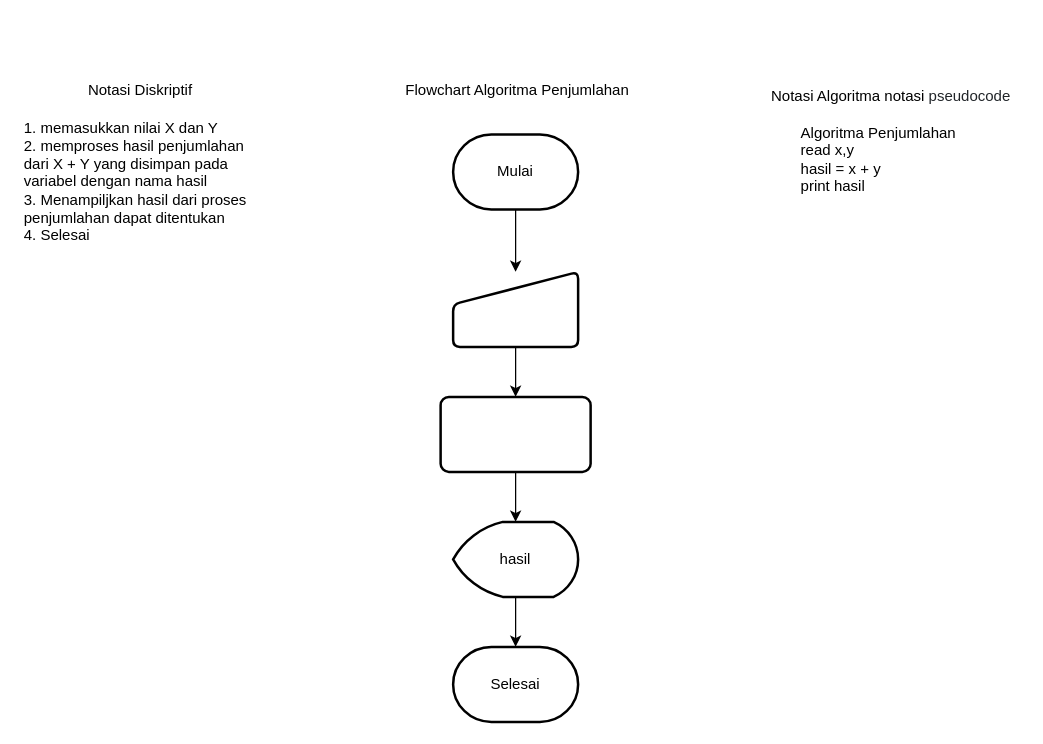
Some shapes in this 1043 by 744 pixel diagram are drawn without their labels. The centre of each missing label's shape, as x and y in pixels:
"hasil = X + Y" belongs at (x=515, y=433).
"X, Y" belongs at (x=515, y=309).
